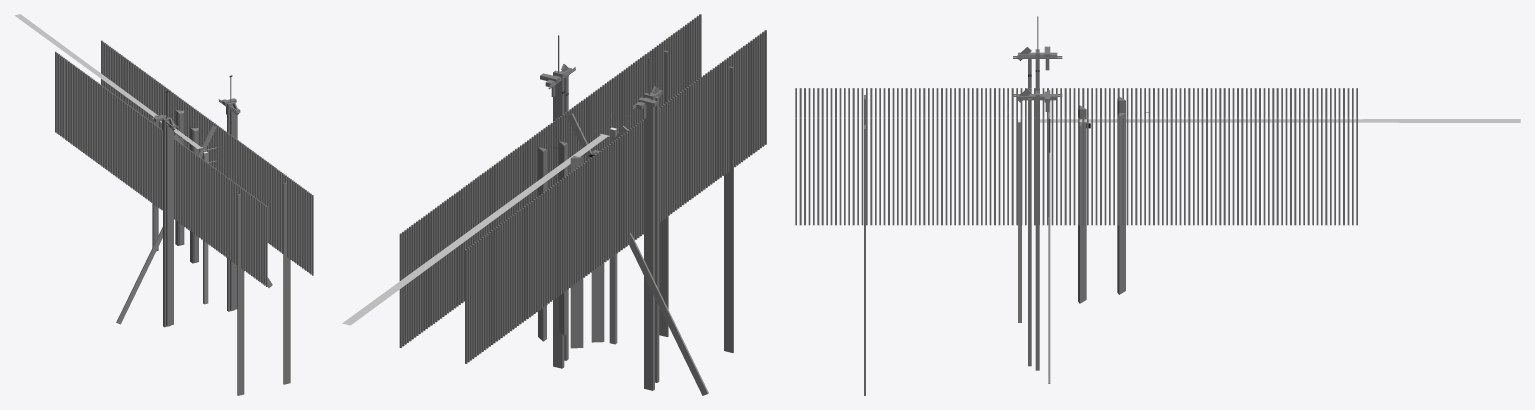
File: monstercat.glb
3 renders of one model, left to right at view 1: azimuth 30°, elevation 25°; view 2: azimuth 150°, elevation 25°; view 3: azimuth 270°, elevation 25°, orthographic. The views are drawn at different scales.
Visible parts, largest first — view 1: Spectrogram0 (×2), Spectrogram1 (×2), CombinedMesh (×2), SpectrogramEnd, FarBuildings, TrackMirror, VConstruction, Construction; view 2: Spectrogram1 (×2), Spectrogram0 (×2), CombinedMesh (×2), SpectrogramEnd, FarBuildings, TrackMirror, VConstruction, Construction; view 3: Spectrogram1 (×2), Spectrogram0 (×2), CombinedMesh (×2), FarBuildings, TrackMirror, VConstruction, Construction.
Boxes of the visible parts, bbox=[...] form: Spectrogram0 (×2): bbox=[161, 118, 313, 286]; Spectrogram1 (×2): bbox=[55, 40, 207, 209]; CombinedMesh (×2): bbox=[154, 77, 240, 327]; SpectrogramEnd: bbox=[237, 182, 290, 395]; FarBuildings: bbox=[152, 110, 198, 263]; TrackMirror: bbox=[14, 14, 201, 148]; VConstruction: bbox=[116, 125, 272, 324]; Construction: bbox=[203, 152, 208, 304]; Spectrogram1 (×2): bbox=[399, 124, 615, 363]; Spectrogram0 (×2): bbox=[550, 14, 766, 253]; CombinedMesh (×2): bbox=[540, 35, 662, 390]; SpectrogramEnd: bbox=[659, 50, 733, 352]; FarBuildings: bbox=[538, 141, 604, 348]; TrackMirror: bbox=[342, 134, 607, 325]; VConstruction: bbox=[566, 113, 708, 395]; Construction: bbox=[609, 129, 617, 344]; Spectrogram1 (×2): bbox=[1078, 88, 1357, 225]; Spectrogram0 (×2): bbox=[795, 88, 1075, 225]; CombinedMesh (×2): bbox=[1013, 16, 1062, 370]; FarBuildings: bbox=[1078, 96, 1125, 303]; TrackMirror: bbox=[1040, 119, 1520, 122]; VConstruction: bbox=[1048, 90, 1050, 383]; Construction: bbox=[1018, 122, 1021, 322].
Bounding box in the file's own units: 122 × 193 × 369.
15 materials, 3 textured.
